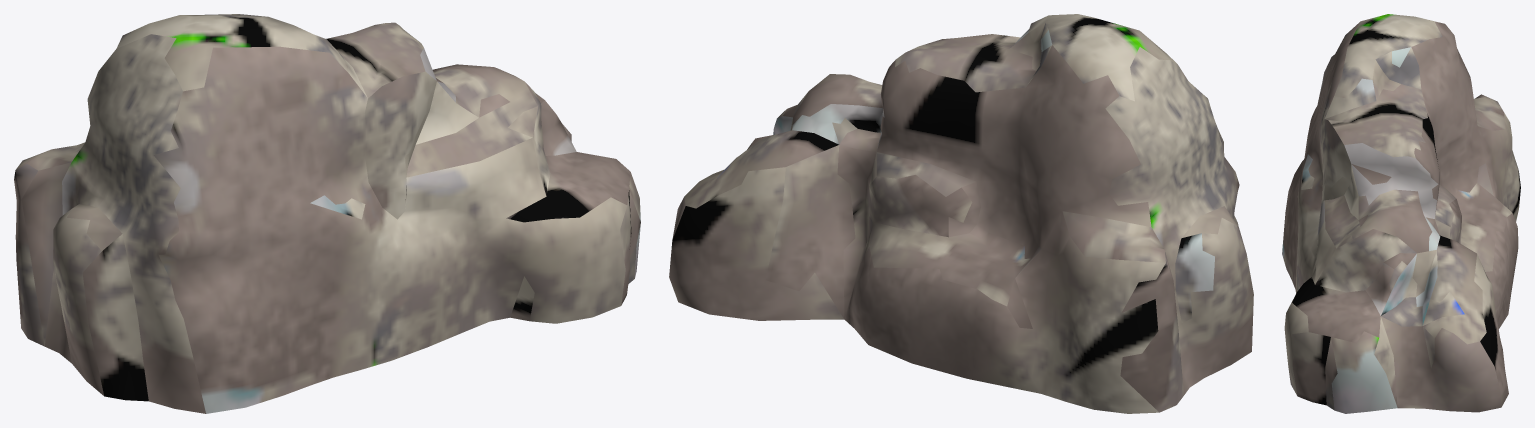
Rendered from Cliff-2.fbx.
3 renders of one model, left to right at view 1: azimuth 30°, elevation 25°; view 2: azimuth 150°, elevation 25°; view 3: azimuth 270°, elevation 25°, orthographic. The views are drawn at different scales.
Visible parts, largest first — view 1: Cliff-2; view 2: Cliff-2; view 3: Cliff-2.
Boxes of the visible parts, x1,y1,x2,y2 form: Cliff-2: (14,14,640,413); Cliff-2: (669,14,1253,413); Cliff-2: (1282,14,1520,413).
Bounding box in the file's own units: 9.59 × 5.38 × 4.77.
